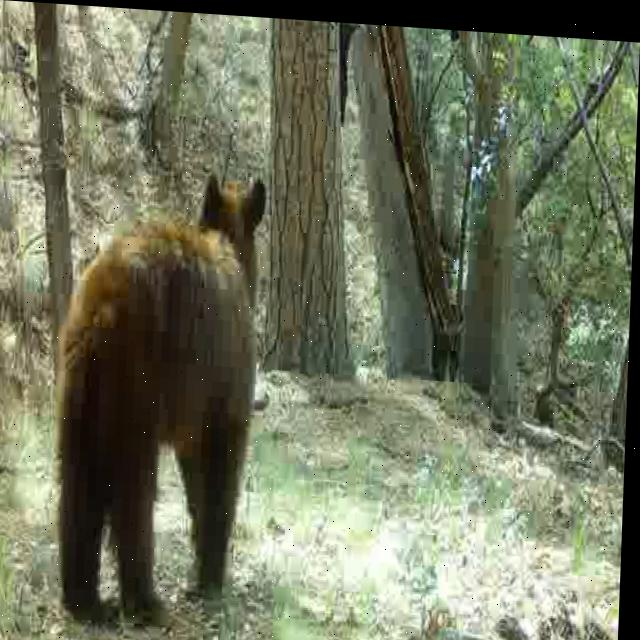bear face: (59, 159, 267, 612), (334, 18, 355, 111)
